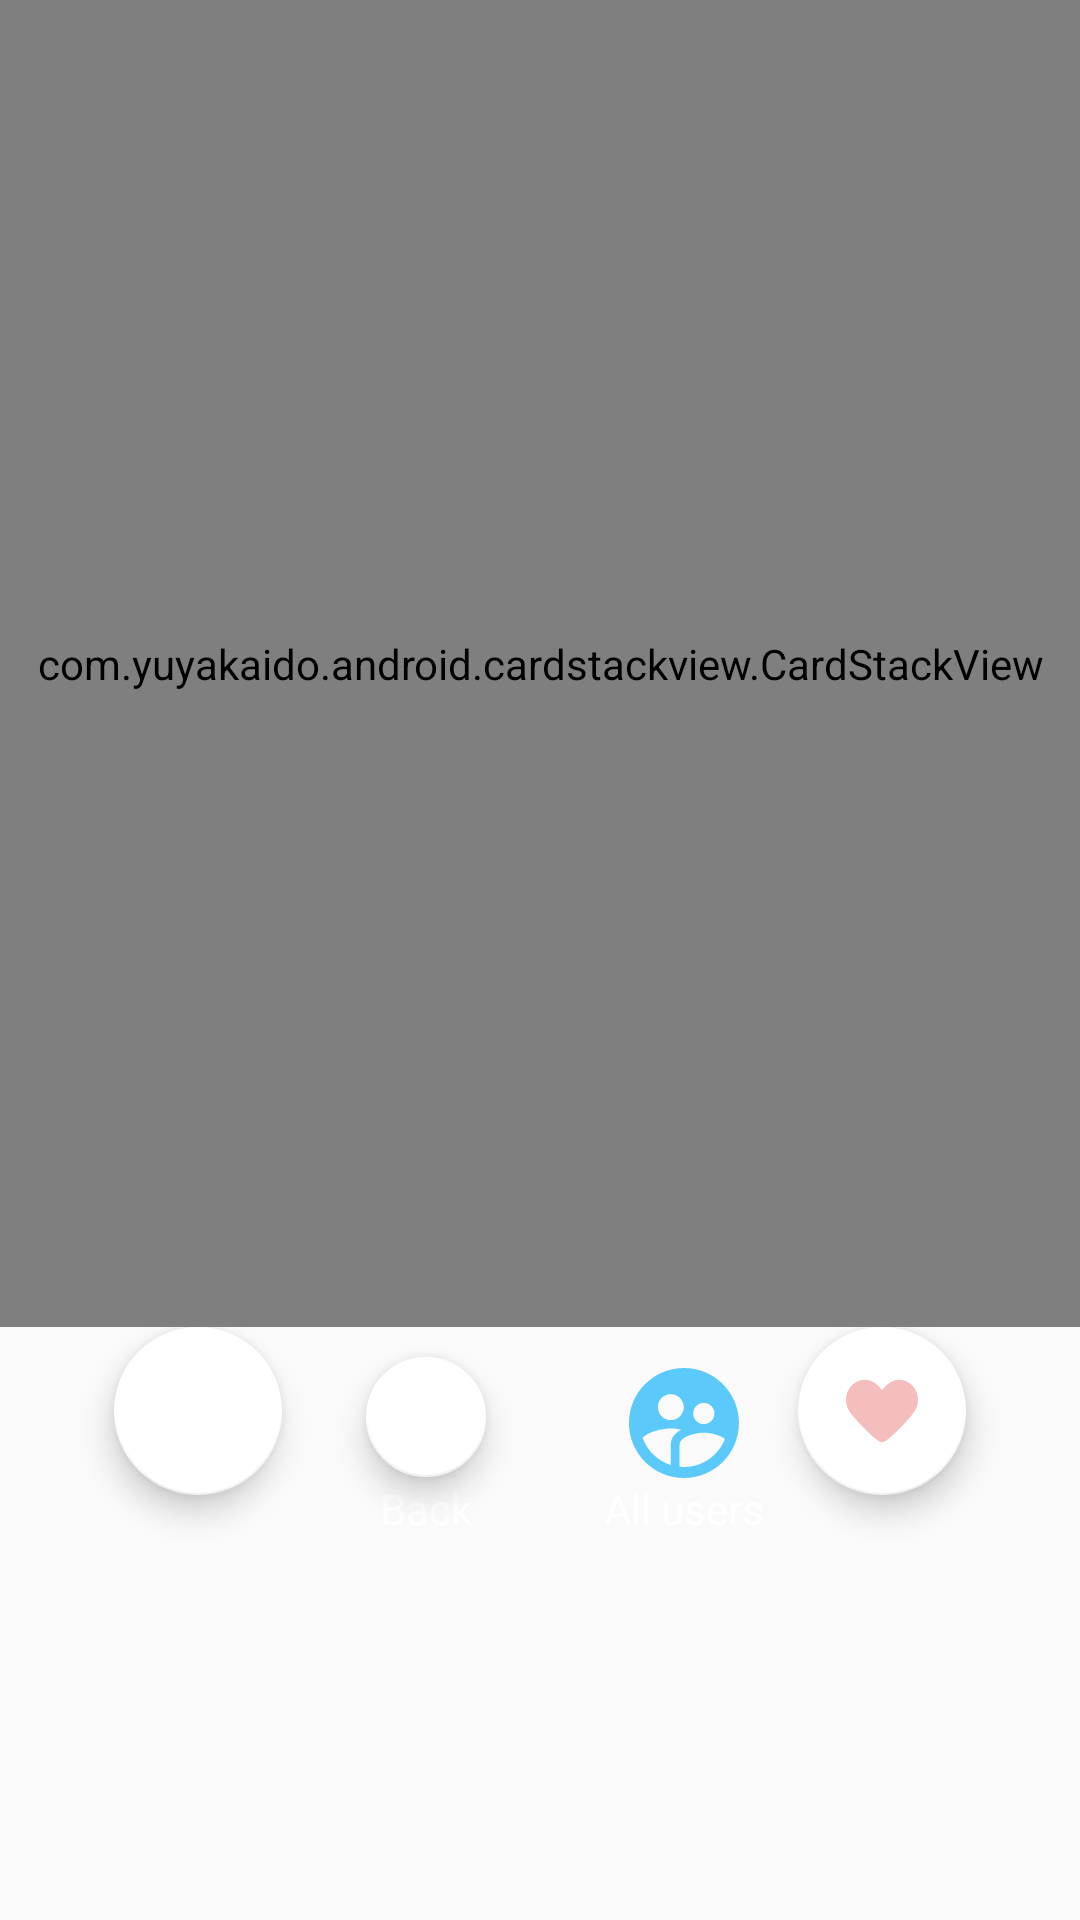

Icons on this 1080w x 1920h Android screen, each with the point to tap as point (x, y):
LIKE: point (882, 1411)
supervised user circle: point (684, 1423)
